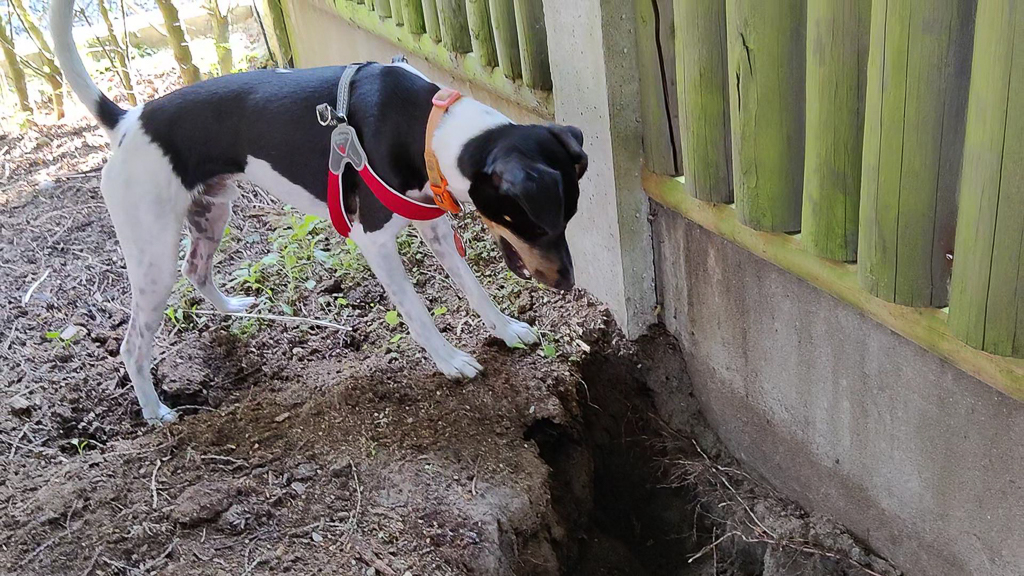Dog: (41, 0, 614, 442)
